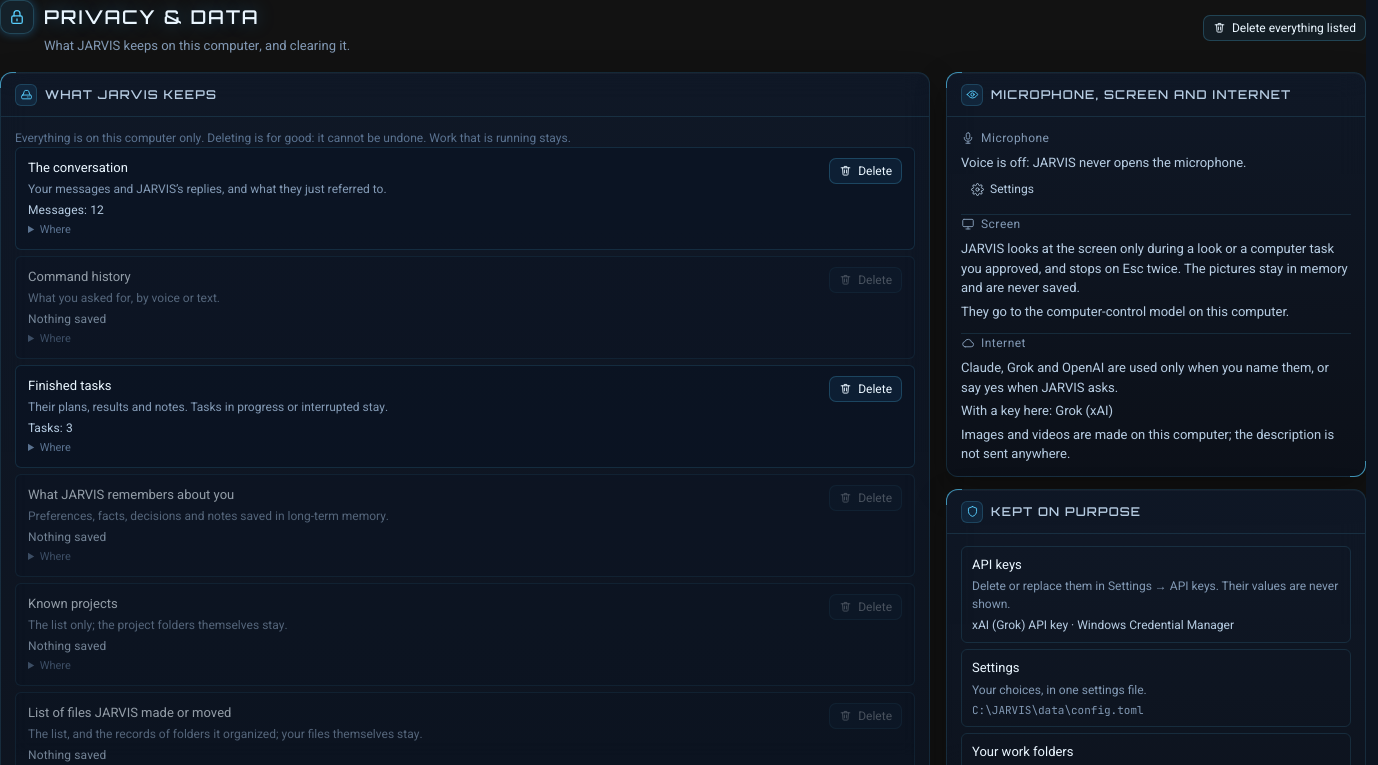
Test: the privacy screen › deletes one kind only after a second click, and shows the new counts
What coordinates should you click on to do the following:
click the button with test id "privacy-clear-chat"
I would click on:
 (866, 170)
Its box is [829, 158, 902, 184].
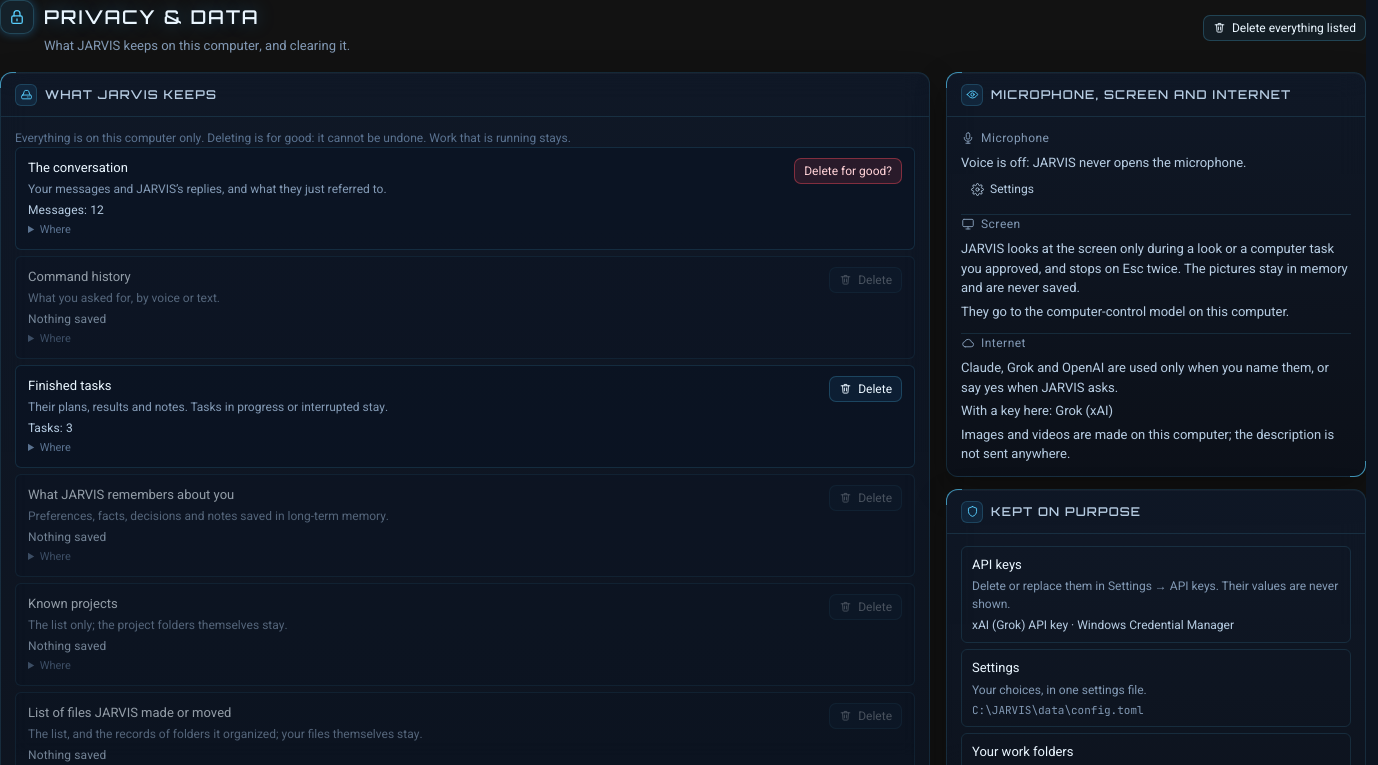
Now the button with test id "privacy-clear-chat" reads "Delete for good?"
What coordinates should you click on to do the following:
click the button with test id "privacy-clear-chat"
I would click on:
 (848, 170)
Its box is [794, 158, 902, 184].
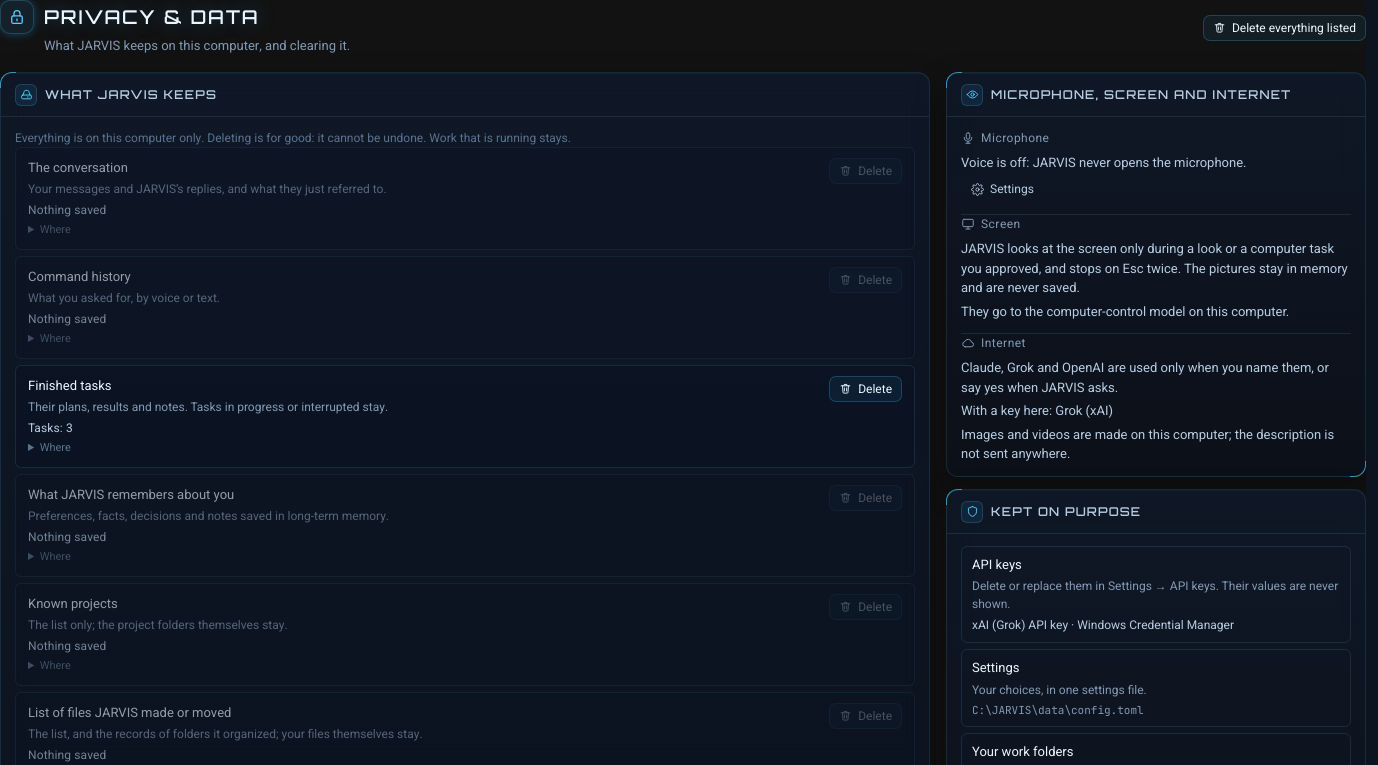
Now the text with test id "privacy-count-chat" reads "Nothing saved", box [28, 201, 106, 219]
